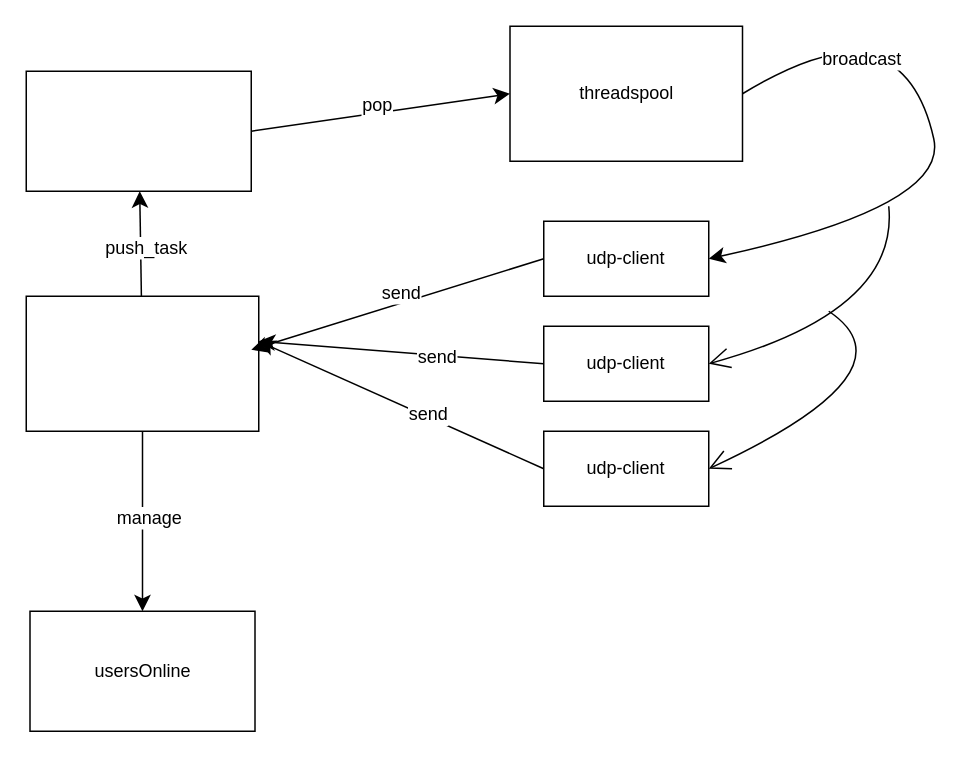
Image size: 962x758. Some labels were removed from this diagram. Each missing label, with the centre of its shape:
"task_queue" goes at pixel 138 130.
"udp-server" goes at pixel 142 363.
